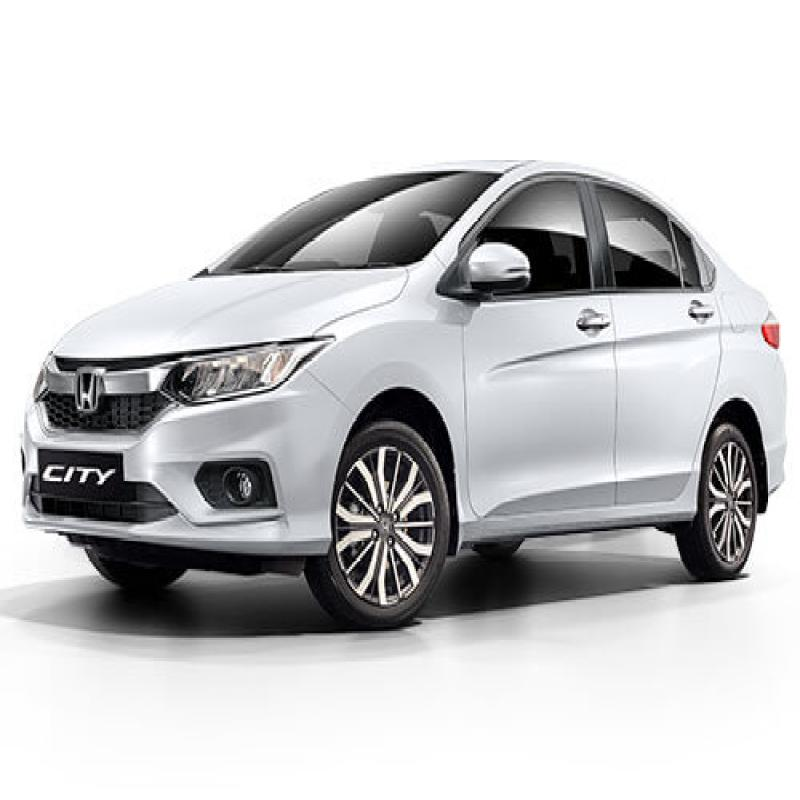car: (22, 144, 800, 656)
